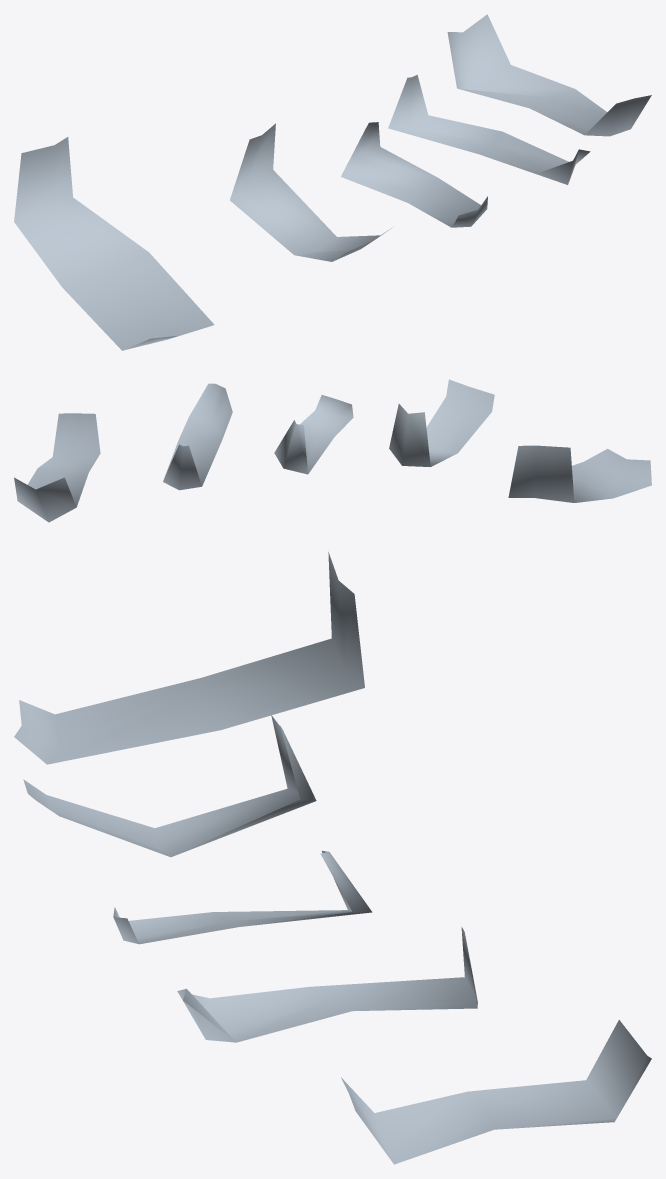
File: plantar-metatarsophalangeal-ligaments-l.glb
The picture shows the model from 3 angles, top to bottom: view 1: azimuth 30°, elevation 25°; view 2: azimuth 150°, elevation 25°; view 3: azimuth 270°, elevation 25°; orthographic projection. The views are drawn at different scales.
Visible parts, largest first — view 1: Plantar metatarsophalangeal ligaments.l; view 2: Plantar metatarsophalangeal ligaments.l; view 3: Plantar metatarsophalangeal ligaments.l.
Boxes of the visible parts, x1,y1,x2,y2 form: Plantar metatarsophalangeal ligaments.l: [14, 14, 651, 350]; Plantar metatarsophalangeal ligaments.l: [14, 379, 651, 522]; Plantar metatarsophalangeal ligaments.l: [14, 552, 651, 1164].
Bounding box in the file's own units: 0.0682 × 0.0153 × 0.0435.
